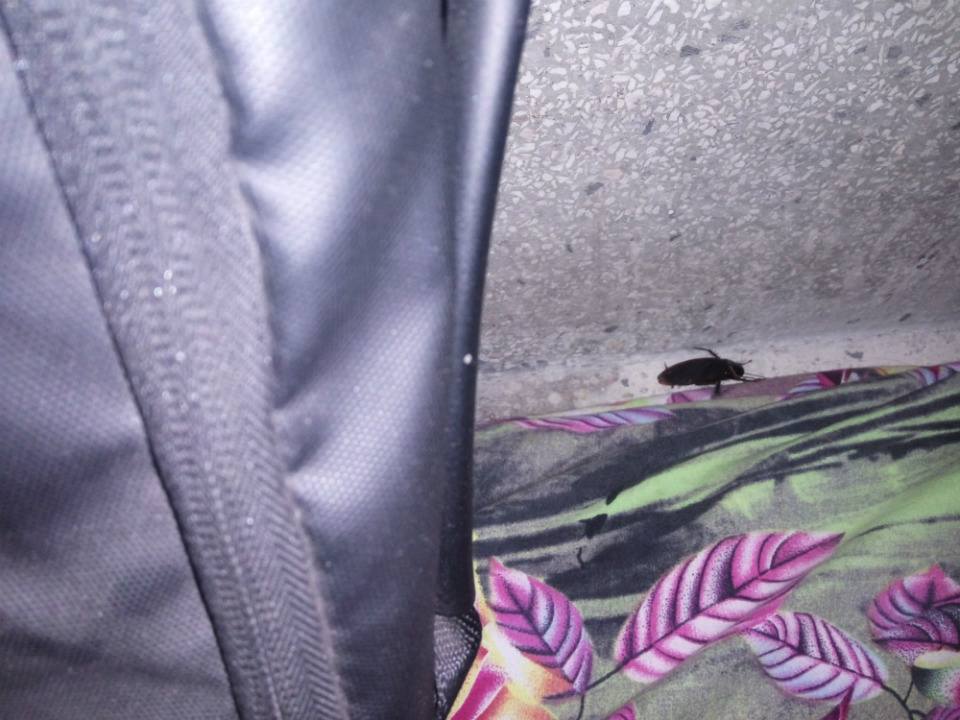cockroach: (583, 319, 770, 397)
